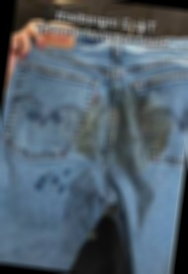earth: (79, 93, 161, 165), (149, 119, 173, 155)
